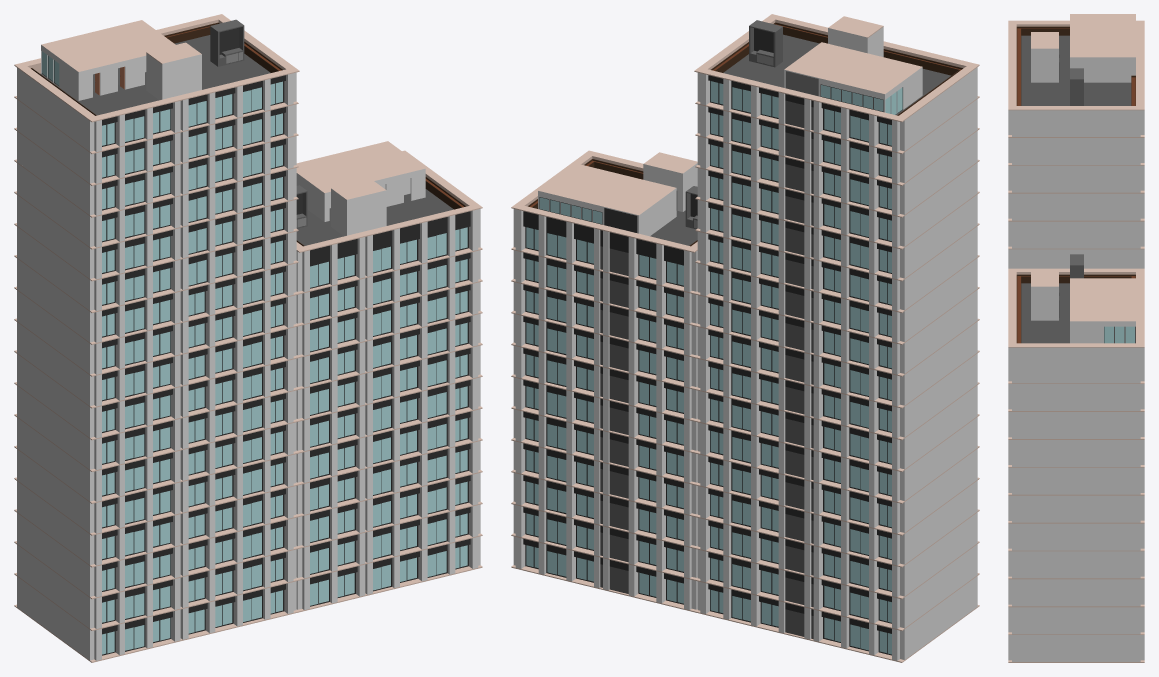
The model's file is MSH_Torre-A.fbx.
3 renders of one model, left to right at view 1: azimuth 30°, elevation 25°; view 2: azimuth 150°, elevation 25°; view 3: azimuth 270°, elevation 25°, orthographic. The views are drawn at different scales.
Visible parts, largest first — view 1: MSH_Piso_13, MSH_Amenidades_Piso_20, MSH_Piso_3.004, MSH_Piso_3.005, MSH_Piso_3.001, MSH_Piso_3.006, MSH_Piso_3.009, MSH_Piso_3.010, MSH_Piso_3.002, MSH_Piso_3.003, MSH_Piso_3.007, MSH_Piso_3.008 (+8 smaller); view 2: MSH_Piso_13, MSH_Amenidades_Piso_20, MSH_Piso_3.004, MSH_Piso_3.005, MSH_Piso_3.001, MSH_Piso_3.003, MSH_Piso_3.006, MSH_Piso_3.008, MSH_Piso_3.009, MSH_Piso_3.010, MSH_Piso_3.002, MSH_Piso_3.007 (+8 smaller); view 3: MSH_Amenidades_Piso_20, MSH_Amenidades_Piso_13, MSH_Piso_13, MSH_Piso_14.001, MSH_Piso_14.002, MSH_Piso_14.003, MSH_Piso_3.003, MSH_Piso_3.004, MSH_Piso_3.005, MSH_Piso_3.006, MSH_Piso_3.007, MSH_Piso_14.004 (+9 smaller).
Part boxes in pixels (x1,y1,x2,y2): MSH_Piso_13: [14, 209, 482, 344]; MSH_Amenidades_Piso_20: [14, 14, 299, 122]; MSH_Piso_3.004: [14, 441, 482, 567]; MSH_Piso_3.005: [14, 409, 482, 535]; MSH_Piso_3.001: [14, 536, 482, 662]; MSH_Piso_3.006: [14, 377, 482, 503]; MSH_Piso_3.009: [14, 282, 482, 408]; MSH_Piso_3.010: [14, 250, 482, 376]; MSH_Piso_3.002: [14, 504, 482, 630]; MSH_Piso_3.003: [14, 473, 482, 599]; MSH_Piso_3.007: [14, 345, 482, 471]; MSH_Piso_3.008: [14, 314, 482, 440]; MSH_Piso_13: [511, 209, 979, 344]; MSH_Amenidades_Piso_20: [694, 14, 979, 122]; MSH_Piso_3.004: [511, 441, 979, 567]; MSH_Piso_3.005: [511, 409, 979, 535]; MSH_Piso_3.001: [511, 536, 979, 662]; MSH_Piso_3.003: [511, 473, 979, 599]; MSH_Piso_3.006: [511, 377, 979, 503]; MSH_Piso_3.008: [511, 314, 979, 440]; MSH_Piso_3.009: [511, 282, 979, 408]; MSH_Piso_3.010: [511, 250, 979, 376]; MSH_Piso_3.002: [511, 505, 979, 630]; MSH_Piso_3.007: [511, 346, 979, 471]; MSH_Amenidades_Piso_20: [1008, 14, 1144, 110]; MSH_Amenidades_Piso_13: [1008, 268, 1144, 347]; MSH_Piso_13: [1008, 347, 1144, 383]; MSH_Piso_14.001: [1008, 221, 1144, 249]; MSH_Piso_14.002: [1008, 193, 1144, 221]; MSH_Piso_14.003: [1008, 165, 1144, 193]; MSH_Piso_3.003: [1008, 579, 1144, 607]; MSH_Piso_3.004: [1008, 551, 1144, 579]; MSH_Piso_3.005: [1008, 523, 1144, 551]; MSH_Piso_3.006: [1008, 495, 1144, 523]; MSH_Piso_3.007: [1008, 467, 1144, 495]; MSH_Piso_14.004: [1008, 138, 1144, 165].
Size of the model in its own units: 4244 by 5910 by 1460.
